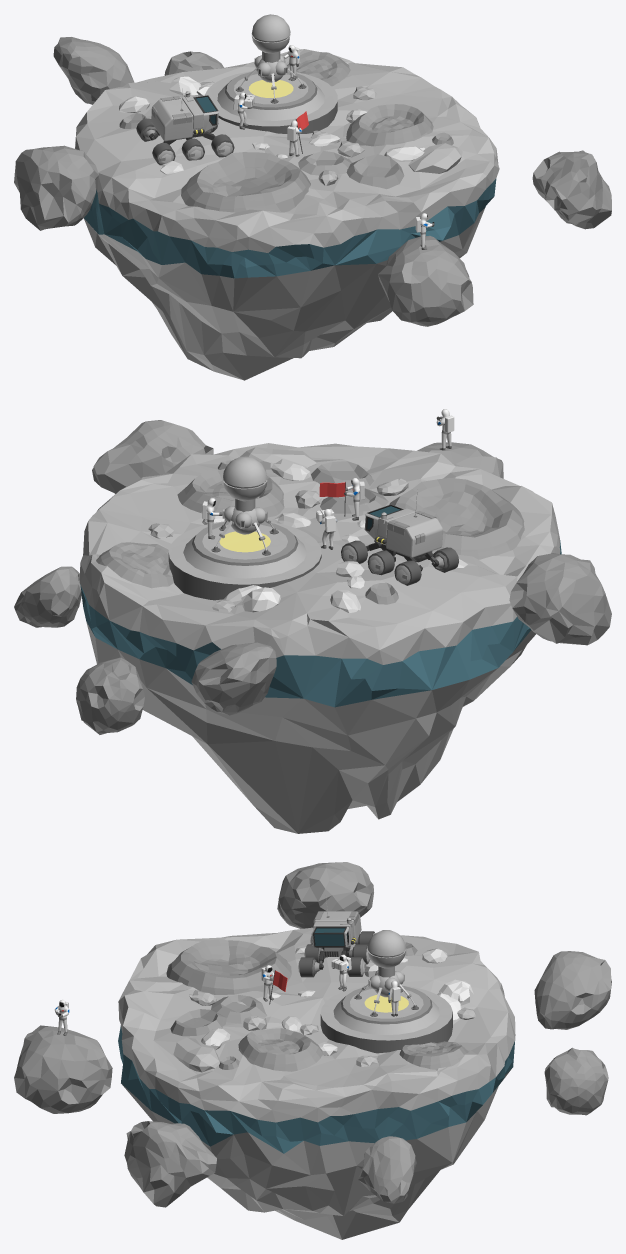
File: land_25.fbx
3 views of the same model, one above another, from view 1: azimuth 30°, elevation 25°; view 2: azimuth 150°, elevation 25°; view 3: azimuth 270°, elevation 25° (orthographic). The views are drawn at different scales.
Parts seen in each view (by area): view 1: land_14.111, land_25.006, Sphere.020, land_25.007, Sphere.002, Sphere.012, land_25.005, Sphere.008, land_25.032, land_25.012, land_25.009, land_25.020 (+2 smaller); view 2: land_14.111, land_25.006, Sphere.002, land_25.007, land_25.005, Sphere.012, Sphere.008, Sphere, Sphere.015, land_25.009, land_25.032, Sphere.020 (+6 smaller); view 3: land_14.111, land_25.006, Sphere.020, Sphere.012, land_25.007, Sphere.008, Sphere.002, Sphere, land_25.005, Sphere.015, land_25.032, land_25.009 (+4 smaller).
Boxes of the visible parts, <box> form: land_14.111: <box>75,49,499,380</box>; land_25.006: <box>204,14,337,134</box>; Sphere.020: <box>378,235,473,326</box>; land_25.007: <box>181,152,310,212</box>; Sphere.002: <box>14,145,98,230</box>; Sphere.012: <box>532,150,611,229</box>; land_25.005: <box>136,88,234,165</box>; Sphere.008: <box>53,37,134,104</box>; land_25.032: <box>346,104,433,146</box>; land_25.012: <box>346,154,404,189</box>; land_25.009: <box>287,50,350,86</box>; land_25.020: <box>408,143,462,173</box>; land_14.111: <box>79,443,561,833</box>; land_25.006: <box>168,456,321,600</box>; Sphere.002: <box>509,553,611,645</box>; land_25.007: <box>389,478,524,559</box>; land_25.005: <box>341,489,458,585</box>; Sphere.012: <box>92,420,213,493</box>; Sphere.008: <box>191,642,276,715</box>; Sphere: <box>76,657,144,734</box>; Sphere.015: <box>14,566,81,627</box>; land_25.009: <box>96,542,173,588</box>; land_25.032: <box>177,468,284,517</box>; Sphere.020: <box>417,442,503,478</box>; land_14.111: <box>118,927,515,1239</box>; land_25.006: <box>320,930,452,1053</box>; Sphere.020: <box>14,1025,112,1113</box>; Sphere.012: <box>124,1121,216,1207</box>; land_25.007: <box>166,939,291,994</box>; Sphere.008: <box>534,951,611,1029</box>; Sphere.002: <box>277,862,373,928</box>; Sphere: <box>544,1047,608,1115</box>; land_25.005: <box>298,894,375,977</box>; Sphere.015: <box>358,1136,416,1203</box>; land_25.032: <box>238,1028,322,1071</box>; land_25.009: <box>399,1041,468,1069</box>.
Size of the model in its own units: 26.05 by 16.07 by 27.06.
